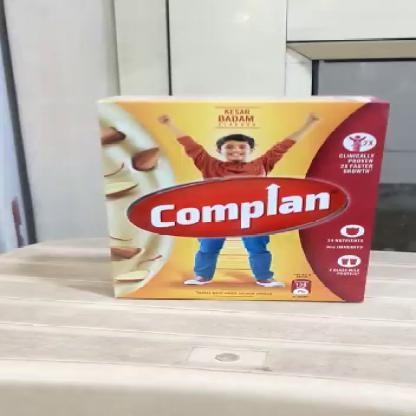Complan Kesar Badam: (87, 92, 398, 307)
